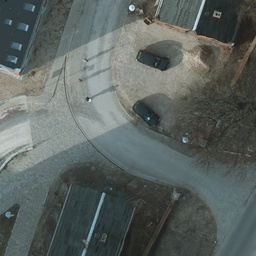car: (132, 99, 160, 128), (137, 48, 169, 71)
